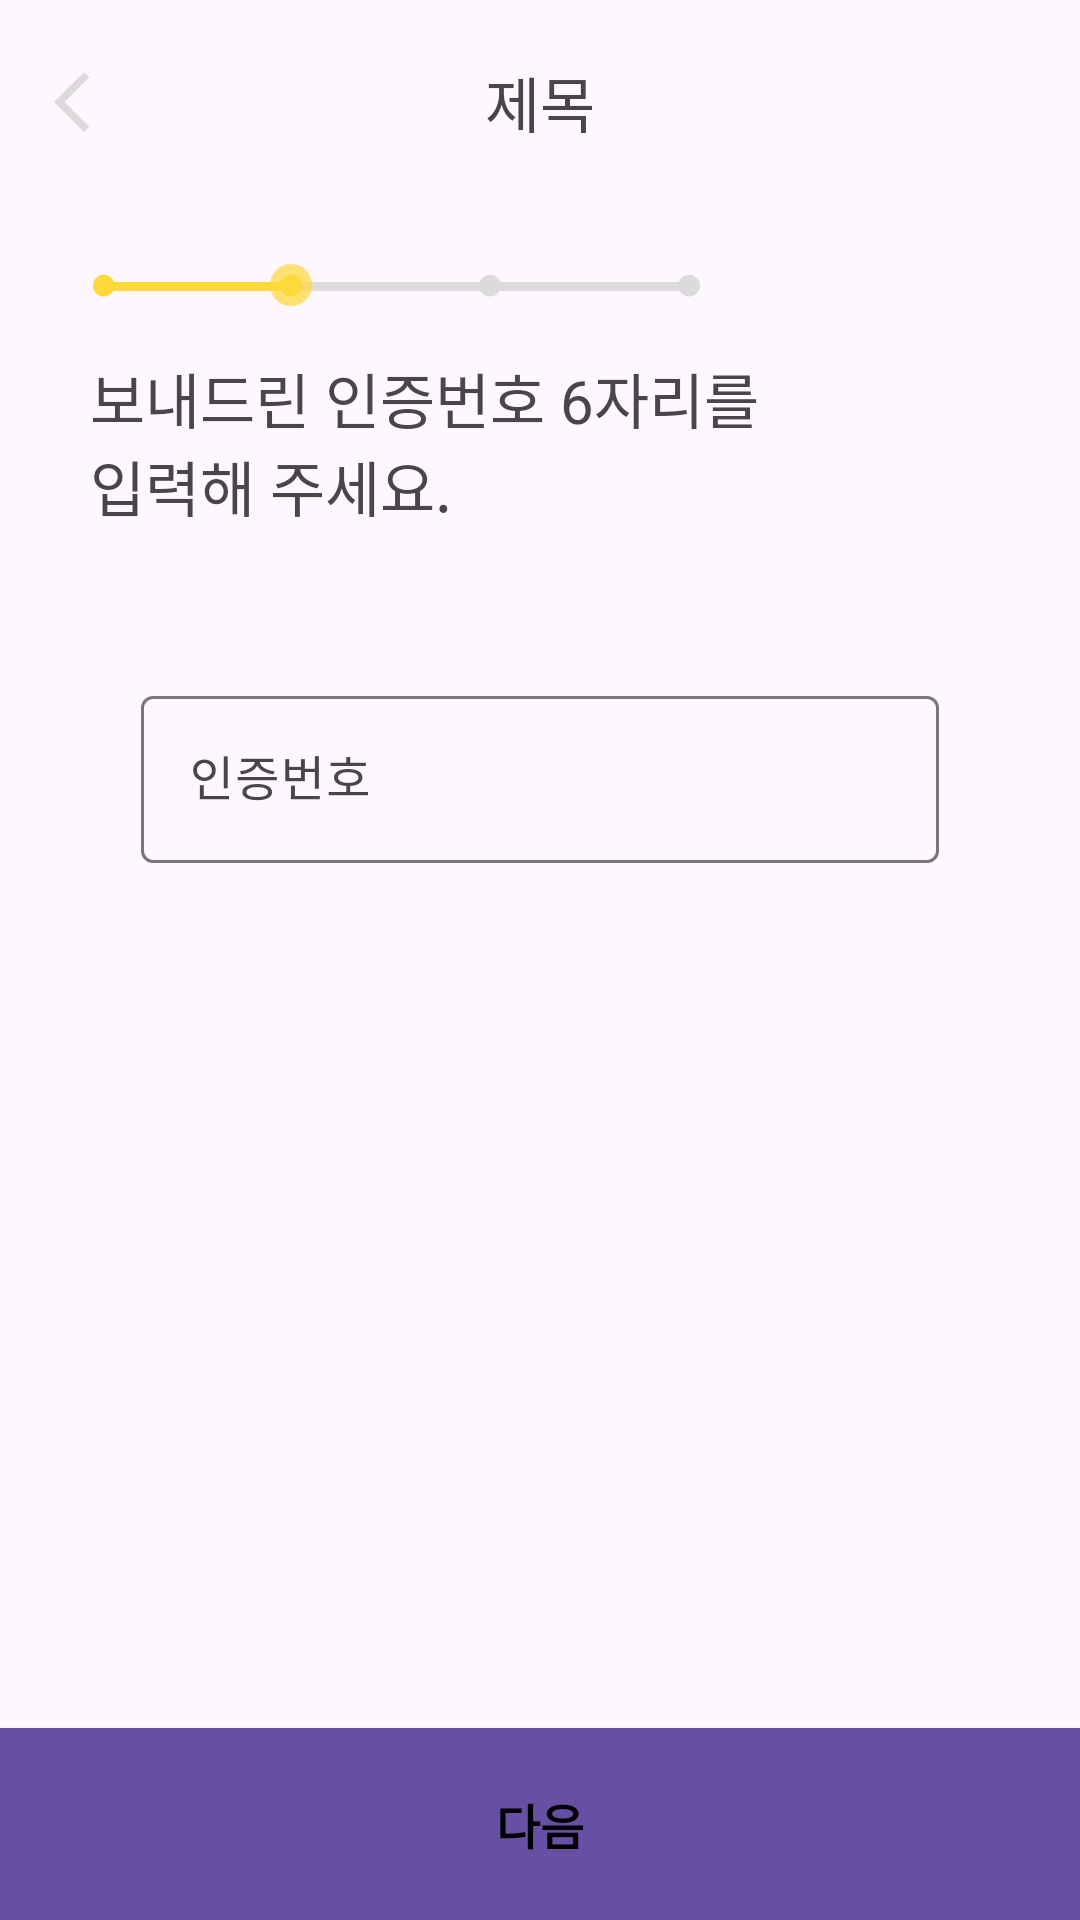

Screen size 1080px x 1920px. Icon name, then its box in pixels as (x1, y1, x2, y2):
arrow back: (55, 73, 89, 131)
